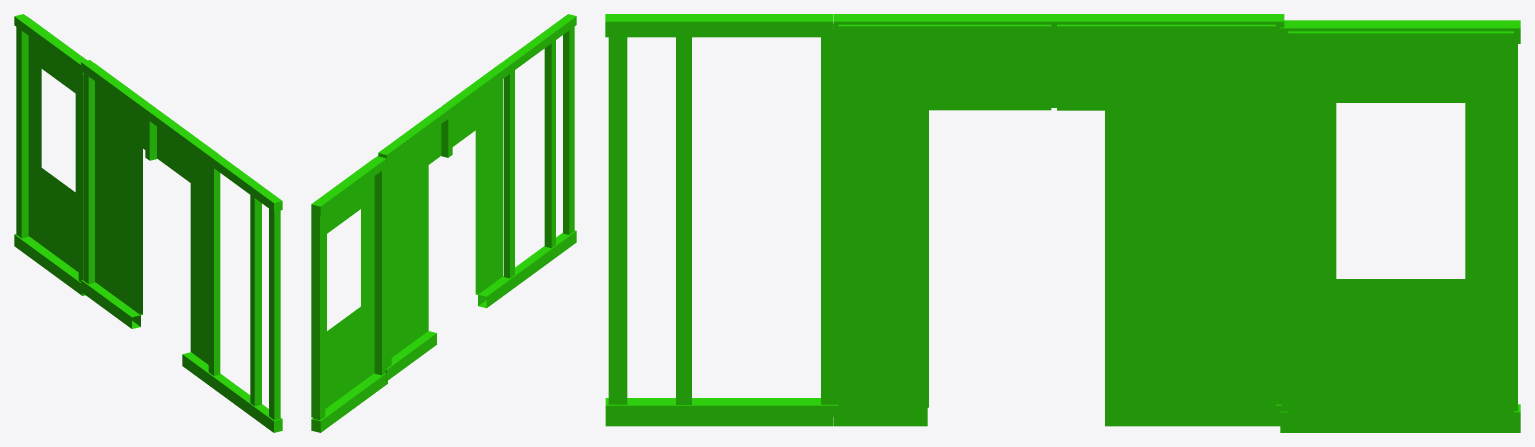
File: HT_02_Wall_01.fbx
3 views of the same model, side by side, from view 1: azimuth 30°, elevation 25°; view 2: azimuth 150°, elevation 25°; view 3: azimuth 270°, elevation 25° (orthographic). The views are drawn at different scales.
Visible parts, largest first — view 1: HT_02_Wall_01; view 2: HT_02_Wall_01; view 3: HT_02_Wall_01.
Part boxes in pixels (<box>): HT_02_Wall_01: <box>14,14,282,432</box>; HT_02_Wall_01: <box>311,14,576,432</box>; HT_02_Wall_01: <box>605,14,1520,432</box>.
Bounding box in the file's own units: 15.97 × 302 × 610.
